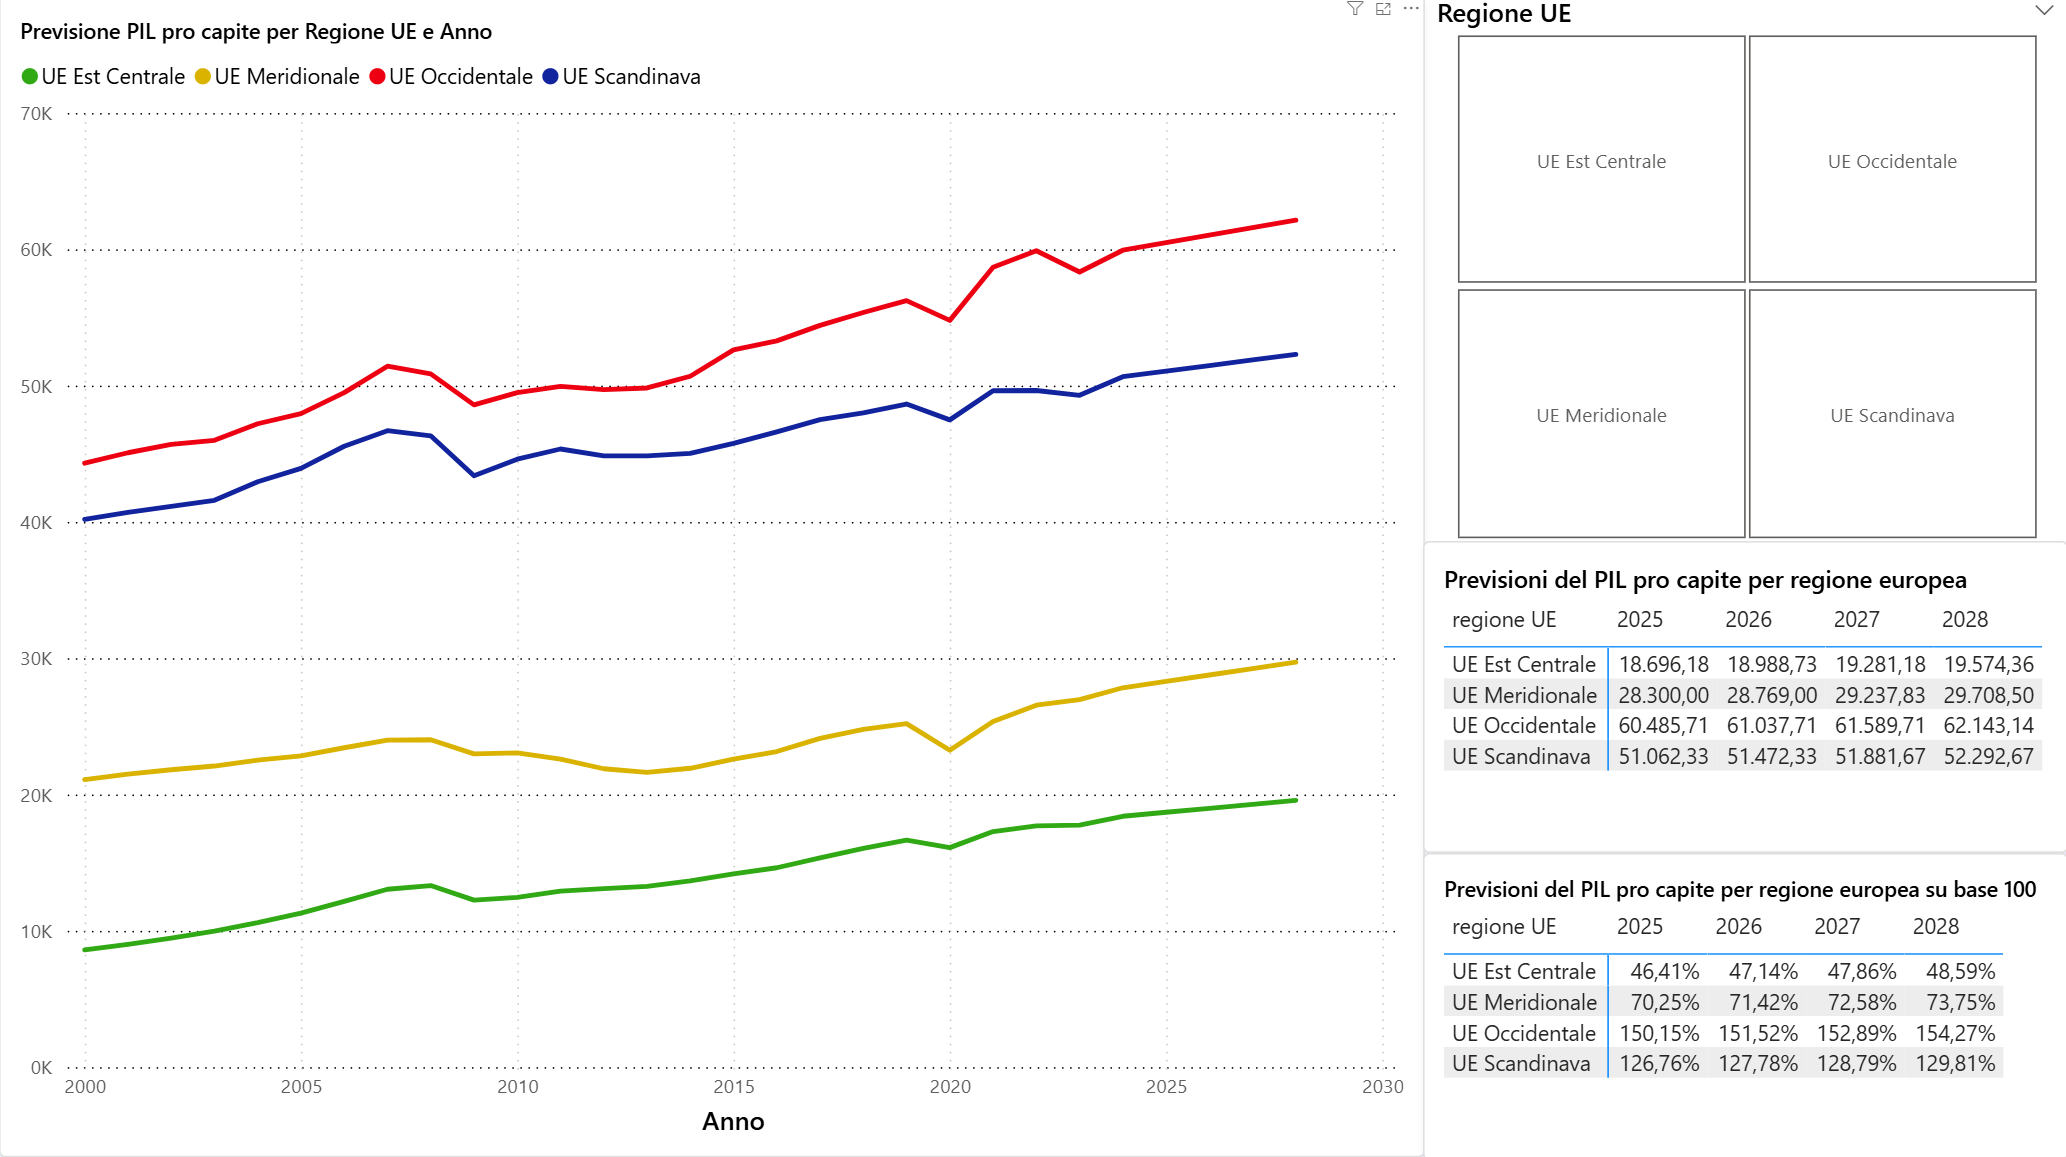

This screenshot's page, from the dashboard's own definition file:
{"tool":"powerbi","page":{"name":"Previsione PIL per capita Regione UE","canvas":[1280,720],"ordinal":9},"visuals":[{"type":"slicer","fields":{"Values":["Europa previsione_futuro_gdp_per_capita_regioni_europee.regione_EU"]},"box":[881.7,0,397.9,337.6],"z":0},{"type":"lineChart","title":"Previsione PIL pro capite per Regione UE e Anno","fields":{"Category":["Europa_previsione_futuro_gdp_per_capita_regioni_europee.Anno"],"Y":["Avg(Europa_previsione_futuro_gdp_per_capita_regioni_europee.gdp_per_capita)"],"Series":["Europa_previsione_futuro_gdp_per_capita_regioni_europee.regione_EU"]},"box":[0,0,881.7,719.5],"z":1000},{"type":"pivotTable","title":"Previsioni del PIL pro capite per regione europea","fields":{"Rows":["Europa_previsione_futuro_gdp_per_capita_regioni_europee.regione_EU"],"Values":["Avg(Europa_previsione_futuro_gdp_per_capita_regioni_europee.gdp_per_capita)"],"Columns":["Europa_previsione_futuro_gdp_per_capita_regioni_europee.Anno"]},"box":[880.7,337.6,398.9,193.3],"z":2000},{"type":"pivotTable","title":"Previsioni del PIL pro capite per regione europea su base 100","fields":{"Columns":["Europa_previsione_futuro_gdp_per_capita_regioni_europee.Anno"],"Rows":["Europa_previsione_futuro_gdp_per_capita_regioni_europee.regione_EU"],"Values":["CountNonNull(Europa_previsione_futuro_gdp_per_capita_regioni_europee.gdp_per_capita)"]},"box":[880.7,530.9,398.9,189.5],"z":3000}]}

Visuals, with their boxes in screenshot pixels (x1, y1, x2, y2), scaled from the page's 1280x720 canvas onto the 2066x1157 screenshot:
slicer - Europa previsione_futuro_gdp_per_capita_regioni_europee.regione_EU: bbox=(1423, 0, 2065, 543)
"Previsione PIL pro capite per Regione UE e Anno" lineChart: bbox=(0, 0, 1423, 1156)
"Previsioni del PIL pro capite per regione europea" pivotTable: bbox=(1422, 543, 2065, 853)
"Previsioni del PIL pro capite per regione europea su base 100" pivotTable: bbox=(1422, 853, 2065, 1156)
